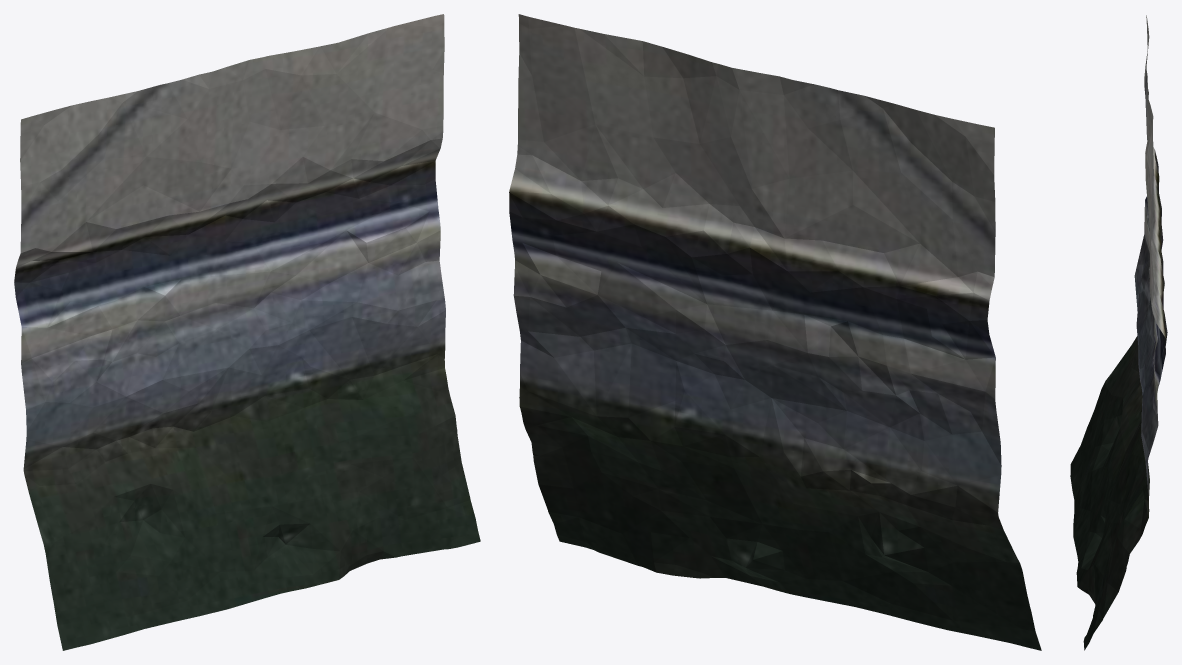
Rendered from tile_5_9_12_tex.obj.
3 renders of one model, left to right at view 1: azimuth 30°, elevation 25°; view 2: azimuth 150°, elevation 25°; view 3: azimuth 270°, elevation 25°, orthographic. The views are drawn at different scales.
Visible parts, largest first — view 1: obj_0; view 2: obj_0; view 3: obj_0.
Part boxes in pixels (<box>): obj_0: <box>14,14,480,650</box>; obj_0: <box>509,14,1041,650</box>; obj_0: <box>1070,15,1167,650</box>.
Bounding box in the file's own units: 5.01 × 5.64 × 1.1.
Materials: 1 (1 with a texture image).
